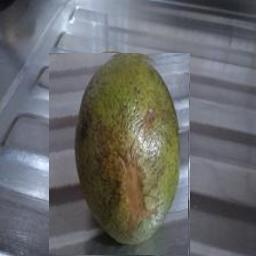Orange Semirotten: (50, 54, 191, 256)
